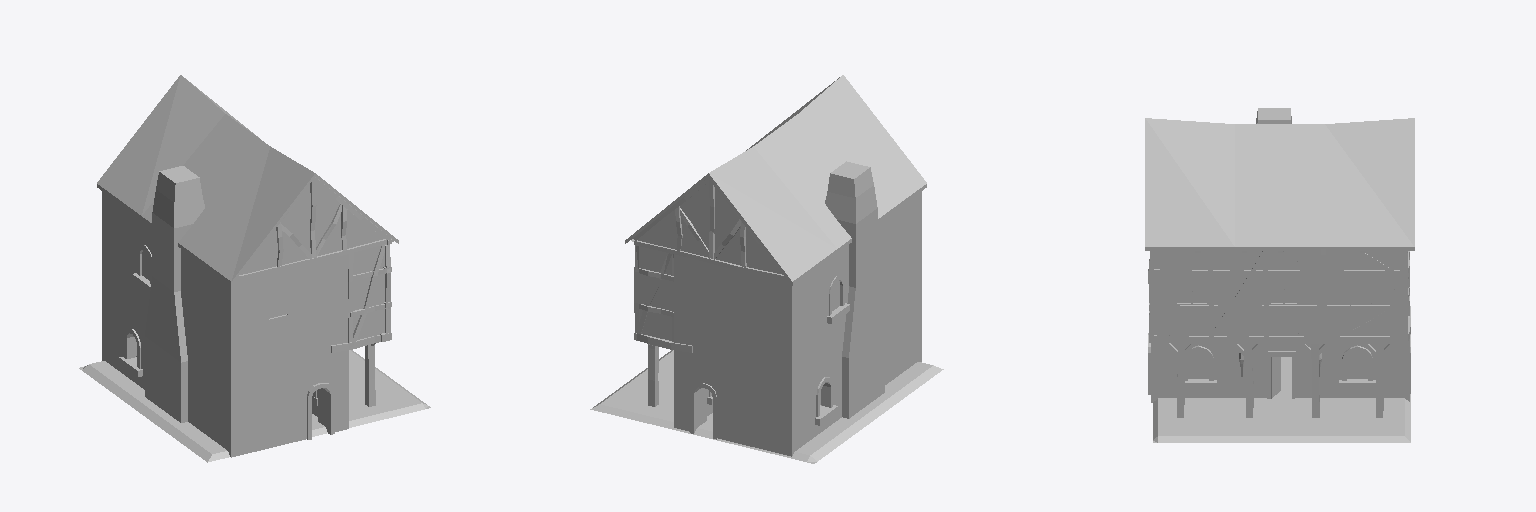
Rendered from Shambles2.obj.
The picture shows the model from 3 angles: view 1: azimuth 30°, elevation 25°; view 2: azimuth 150°, elevation 25°; view 3: azimuth 270°, elevation 25°; orthographic projection.
Parts seen in each view (by area): view 1: limestone, roof, offwhite, mudgrass, fadewood; view 2: limestone, roof, mudgrass, offwhite, fadewood; view 3: roof, fadewood, offwhite, mudgrass, limestone, grill.
Boxes of the visible parts, x1=… form: limestone: x1=102, y1=166, x2=348, y2=457; roof: x1=97, y1=75, x2=398, y2=285; offwhite: x1=240, y1=178, x2=384, y2=339; mudgrass: x1=79, y1=350, x2=430, y2=462; fadewood: x1=136, y1=178, x2=393, y2=406; limestone: x1=674, y1=161, x2=921, y2=456; roof: x1=625, y1=75, x2=926, y2=285; mudgrass: x1=590, y1=350, x2=943, y2=463; offwhite: x1=631, y1=182, x2=782, y2=340; fadewood: x1=633, y1=177, x2=821, y2=406; roof: x1=1145, y1=118, x2=1414, y2=250; fadewood: x1=1148, y1=249, x2=1410, y2=417; offwhite: x1=1153, y1=251, x2=1402, y2=336; mudgrass: x1=1153, y1=357, x2=1410, y2=442; limestone: x1=1148, y1=108, x2=1410, y2=402; grill: x1=1176, y1=275, x2=1387, y2=377.
Bounding box in the file's own units: 76 × 86.95 × 79.18.